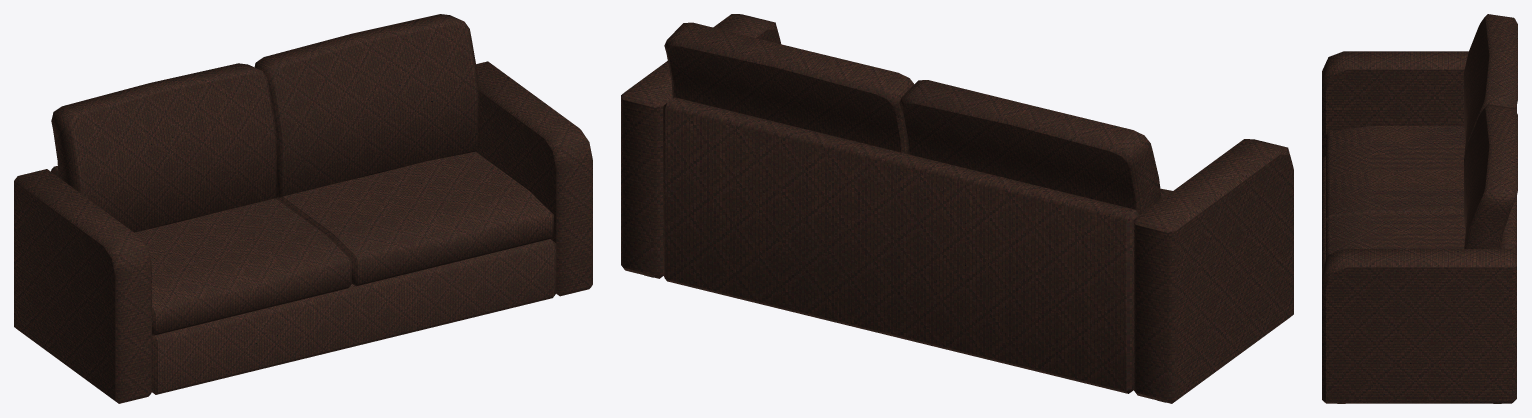
The model's file is sofa_1.glb.
3 views of the same model, side by side, from view 1: azimuth 30°, elevation 25°; view 2: azimuth 150°, elevation 25°; view 3: azimuth 270°, elevation 25° (orthographic). The views are drawn at different scales.
Visible parts, largest first — view 1: sofa_1; view 2: sofa_1; view 3: sofa_1.
Part boxes in pixels (<box>): sofa_1: <box>14,14,592,403</box>; sofa_1: <box>621,14,1293,403</box>; sofa_1: <box>1322,14,1517,403</box>.
Size of the model in its own units: 2.6 by 1.16 by 1.
Materials: 2 (2 with a texture image).
